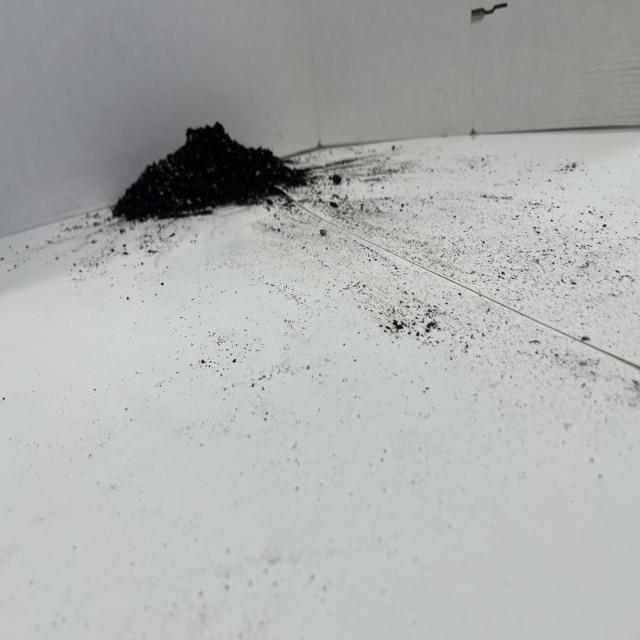soil: (109, 118, 311, 226)
